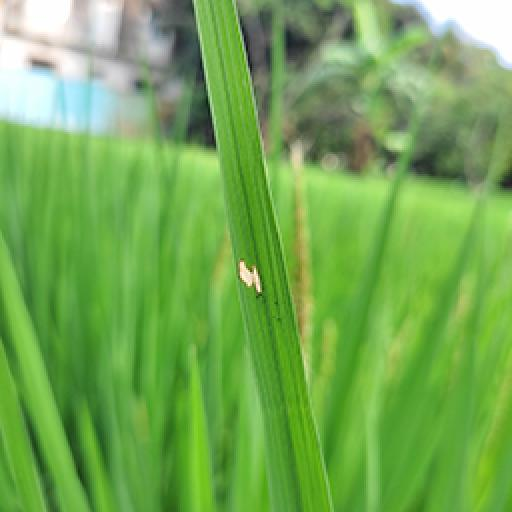Bacterial Leaf Blight: (232, 244, 272, 316)
